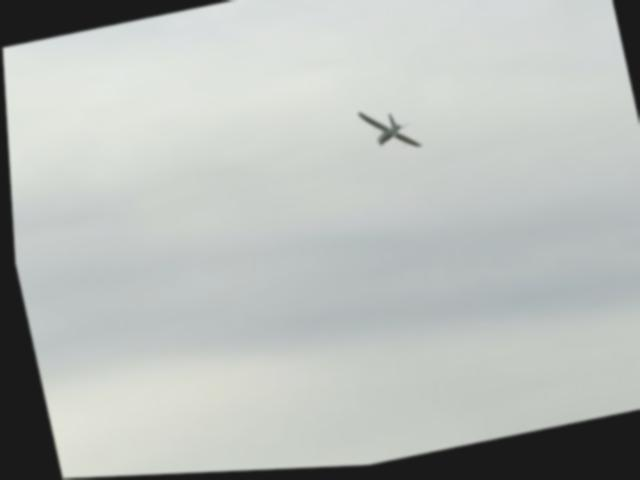uav: (348, 95, 432, 172)
